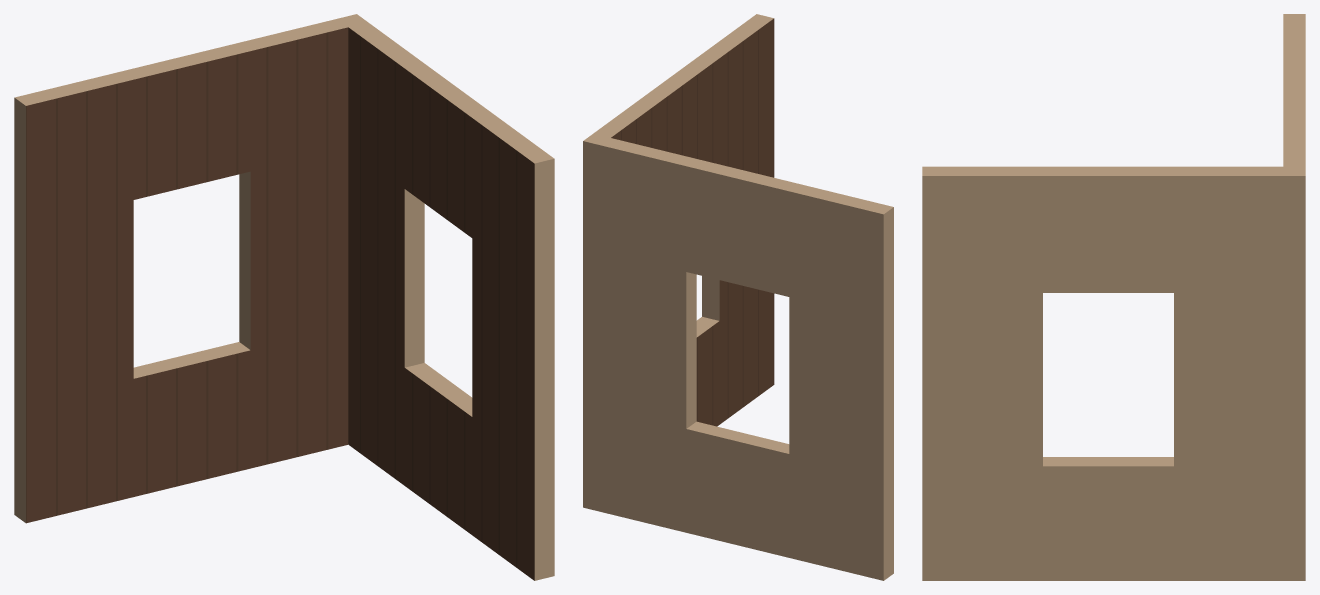
Rendered from Wall3_C9_09.fbx.
3 renders of one model, left to right at view 1: azimuth 30°, elevation 25°; view 2: azimuth 150°, elevation 25°; view 3: azimuth 270°, elevation 25°, orthographic. The views are drawn at different scales.
Parts seen in each view (by area): view 1: Wall3_C9_09; view 2: Wall3_C9_09; view 3: Wall3_C9_09.
Part boxes in pixels (x1,y1,x2,y2): Wall3_C9_09: (14, 14, 554, 580); Wall3_C9_09: (583, 14, 893, 580); Wall3_C9_09: (922, 14, 1305, 580).
Bounding box in the file's own units: 258 × 300 × 258.
